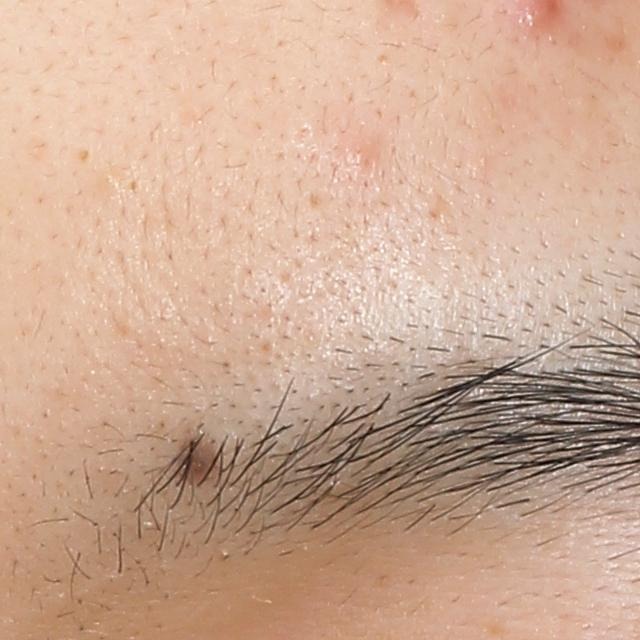comedo: (72, 146, 94, 163)
